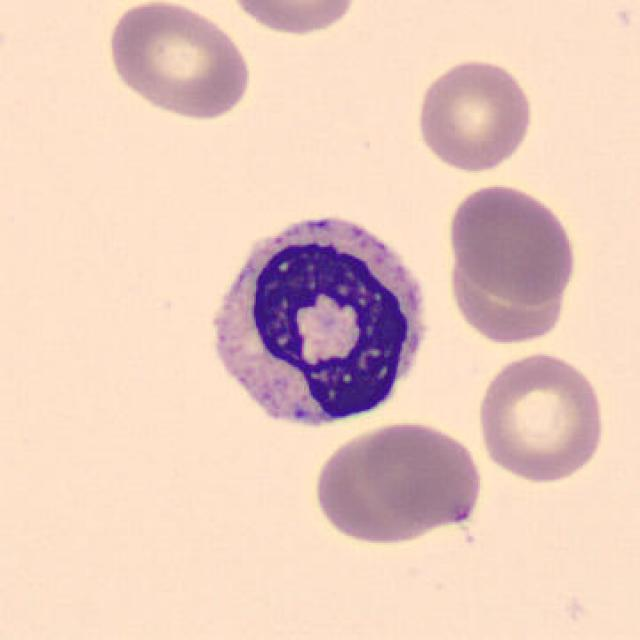Neutrophil: (192, 200, 439, 444)
RBC: (309, 416, 487, 543), (471, 347, 610, 485), (101, 0, 256, 122), (444, 180, 580, 307), (411, 54, 537, 174), (443, 245, 576, 346), (222, 0, 364, 37)
